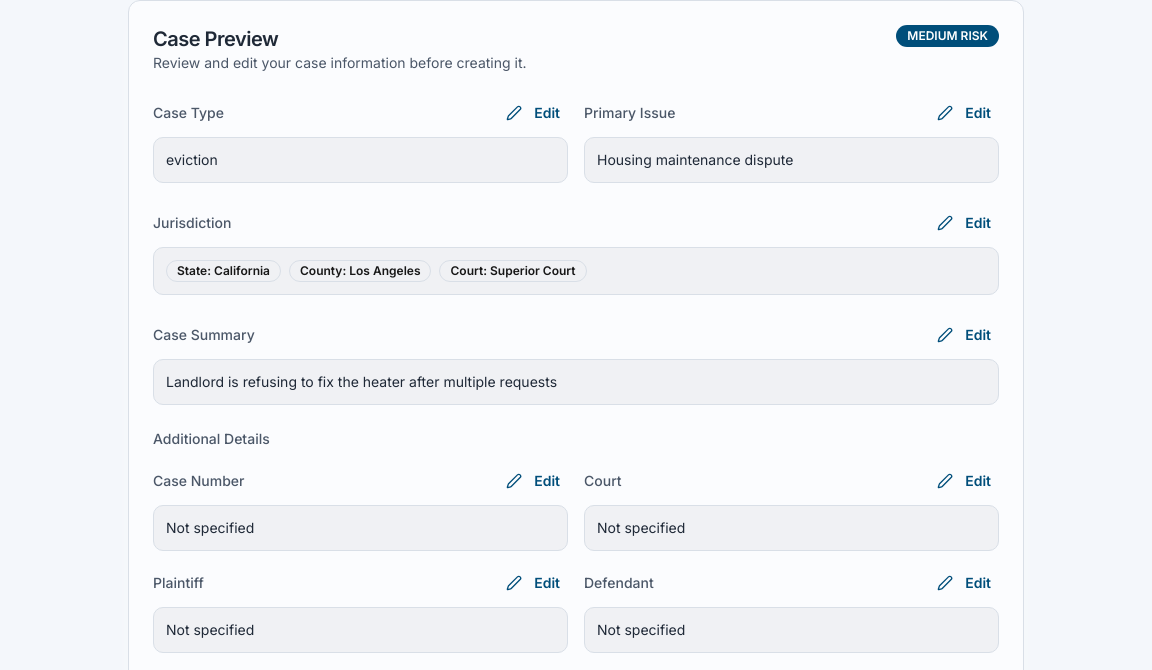
Scenario: CasePreviewCard › enters edit mode when edit button is clicked
The image size is (1152, 670).
Click the button "Edit" in the row of "Case Type" at (533, 113), box [498,97,568,129]
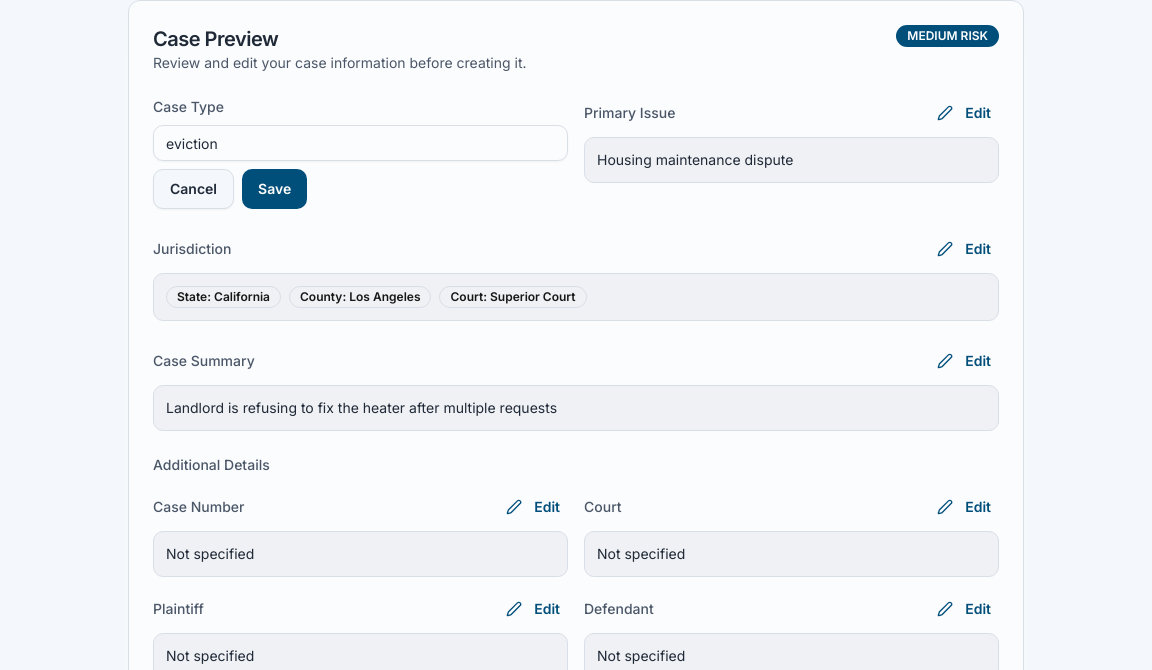
Now the button "Save" is shown, box [242,169,307,209]
Now the button "Cancel" is shown, box [153,169,234,209]
